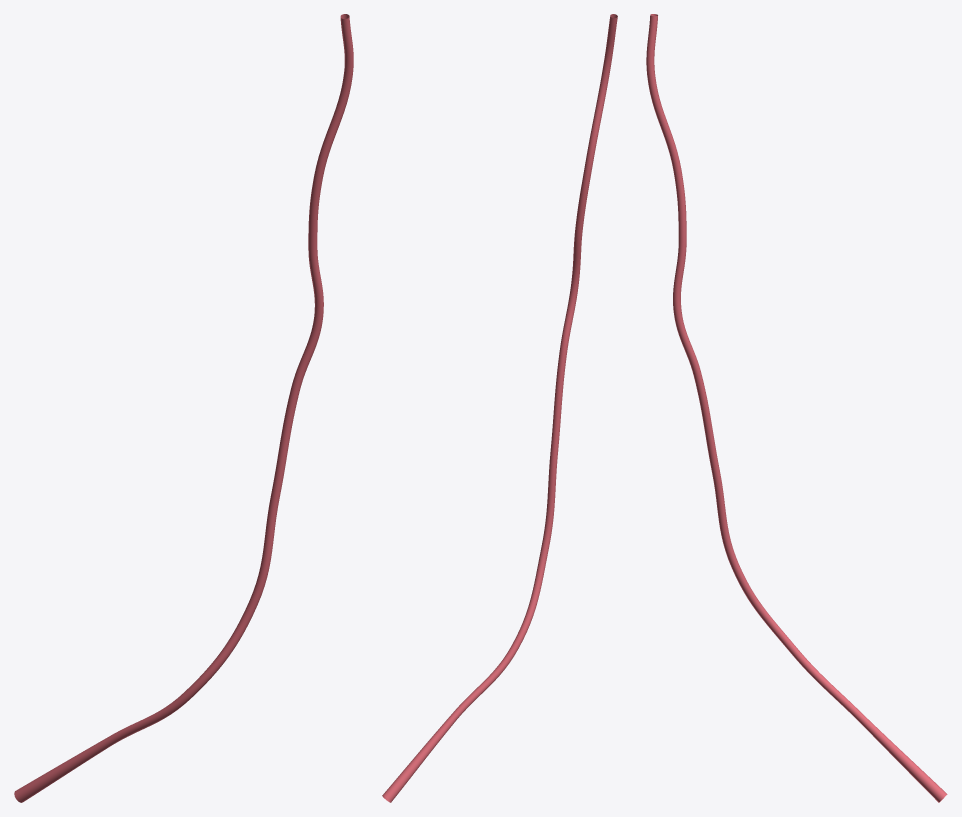
The picture shows the model from 3 angles, left to right: view 1: azimuth 90°, elevation 25°; view 2: azimuth 150°, elevation 25°; view 3: azimuth 270°, elevation 25°; orthographic projection. The views are drawn at different scales.
Visible parts, largest first — view 1: ZA_c708eb44d2945412; view 2: ZA_c708eb44d2945412; view 3: ZA_c708eb44d2945412.
Part boxes in pixels (x1,y1,x2,y2): ZA_c708eb44d2945412: [14, 14, 353, 802]; ZA_c708eb44d2945412: [382, 14, 617, 802]; ZA_c708eb44d2945412: [646, 14, 947, 802].
Bounding box in the file's own units: 0.0288 × 0.1998 × 0.0734.
